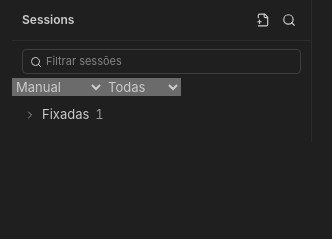
SessionSidebar › não duplica uma sessão fixada no agrupamento temporal e recolhe a seção
Click the button "Fixadas 1" at point(66, 114), box [12,102,311,128]
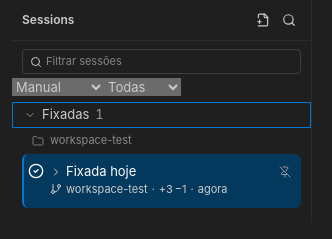
Check: the number of elements with class "session-title-text" is 1, box [66,163,136,179]
Click the button "Fixadas 1" at point(66, 114), box [12,102,311,128]
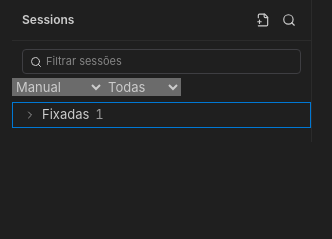
Check: the button "Fixada hoje" is gone
Check: the button "Fixadas 1" is collapsed, box [12,102,311,128]
